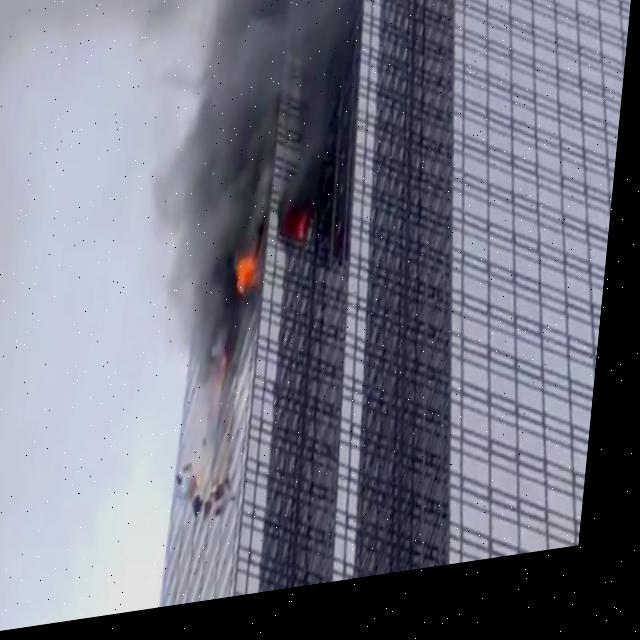Fire: (212, 192, 338, 335)
